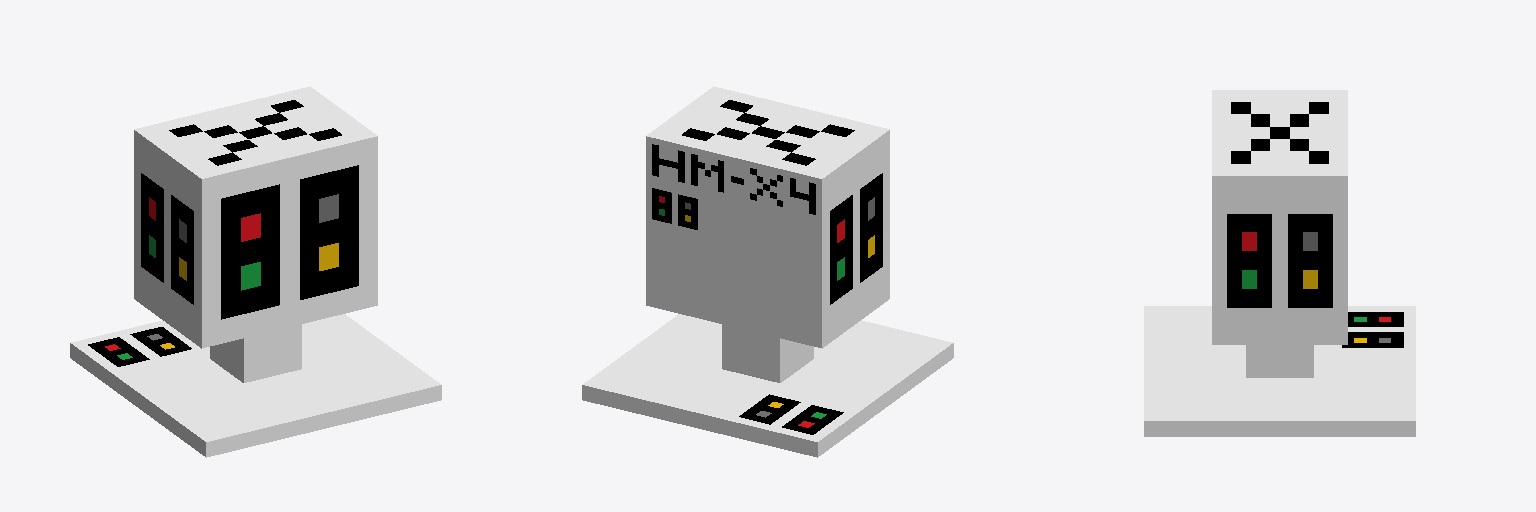
The picture shows the model from 3 angles: view 1: azimuth 30°, elevation 25°; view 2: azimuth 150°, elevation 25°; view 3: azimuth 270°, elevation 25°; orthographic projection.
Parts seen in each view (by area): view 1: box, fuss, stand; view 2: box, fuss, stand; view 3: box, fuss, stand.
Part boxes in pixels (x1,y1,x2,y2): box: (134, 86, 377, 348); fuss: (70, 314, 441, 457); stand: (210, 324, 301, 382); box: (646, 86, 889, 348); fuss: (582, 314, 953, 457); stand: (722, 324, 813, 382); box: (1212, 90, 1347, 344); fuss: (1144, 306, 1415, 436); stand: (1246, 345, 1313, 377).
Size of the model in its own units: 1 by 1 by 1.
Materials: 2 (1 with a texture image).